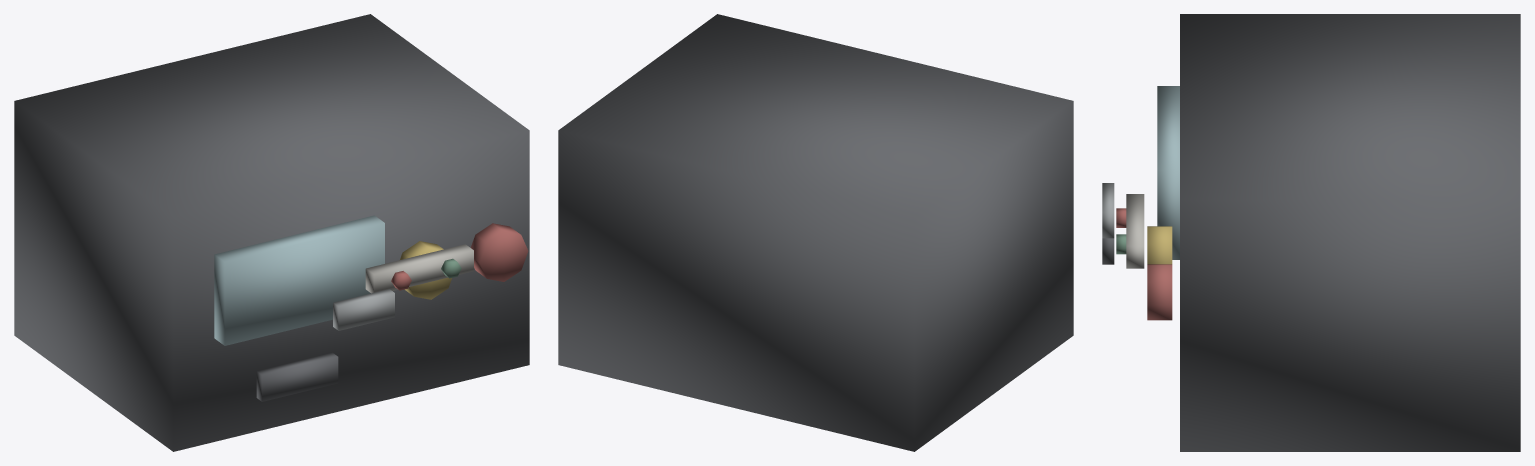
File: component_tester__weathered.glb
The picture shows the model from 3 angles, left to right: view 1: azimuth 30°, elevation 25°; view 2: azimuth 150°, elevation 25°; view 3: azimuth 270°, elevation 25°; orthographic projection. The views are drawn at different scales.
Parts seen in each view (by area): view 1: world; view 2: world; view 3: world.
Part boxes in pixels (left/top/right/bottom): world: left=14, top=14, right=529, bottom=451; world: left=558, top=14, right=1073, bottom=451; world: left=1102, top=14, right=1520, bottom=451.
Size of the model in its own units: 0.44 by 0.2772 by 0.4175.
